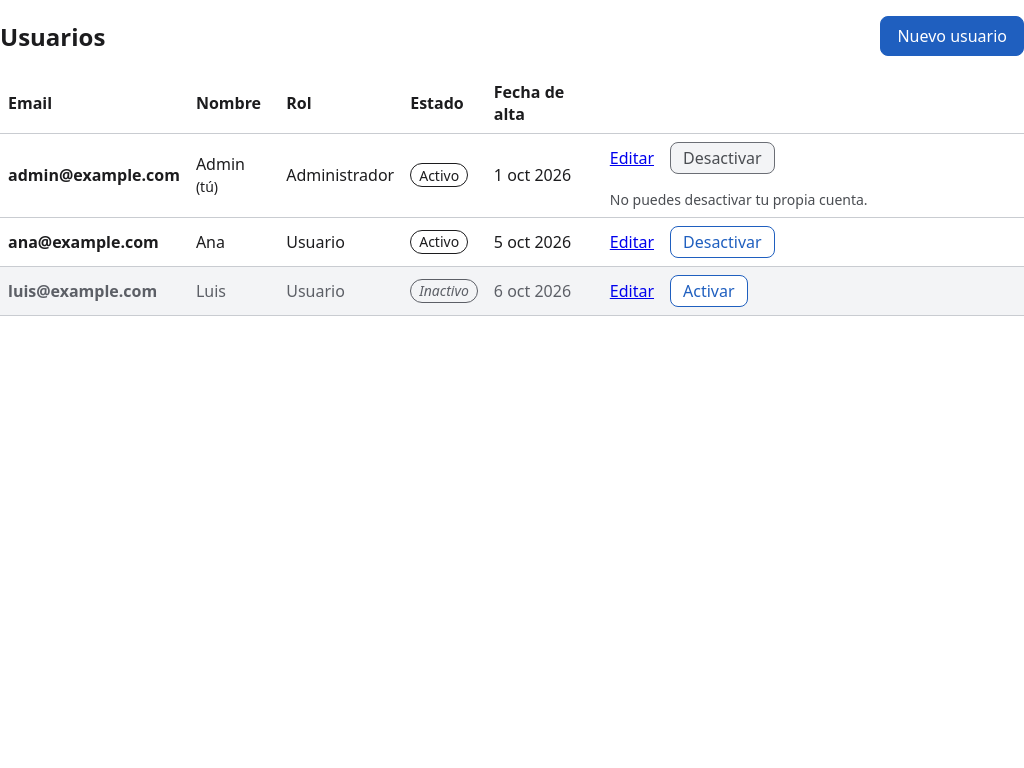
Test: UsuarioListComponent › activar y desactivar › confirmar activar envía activo=true y avisa de que ya puede iniciar sesión
Click the button "Activar" at coordinates (709, 291), box top-left (670, 275), bottom-right (748, 307)
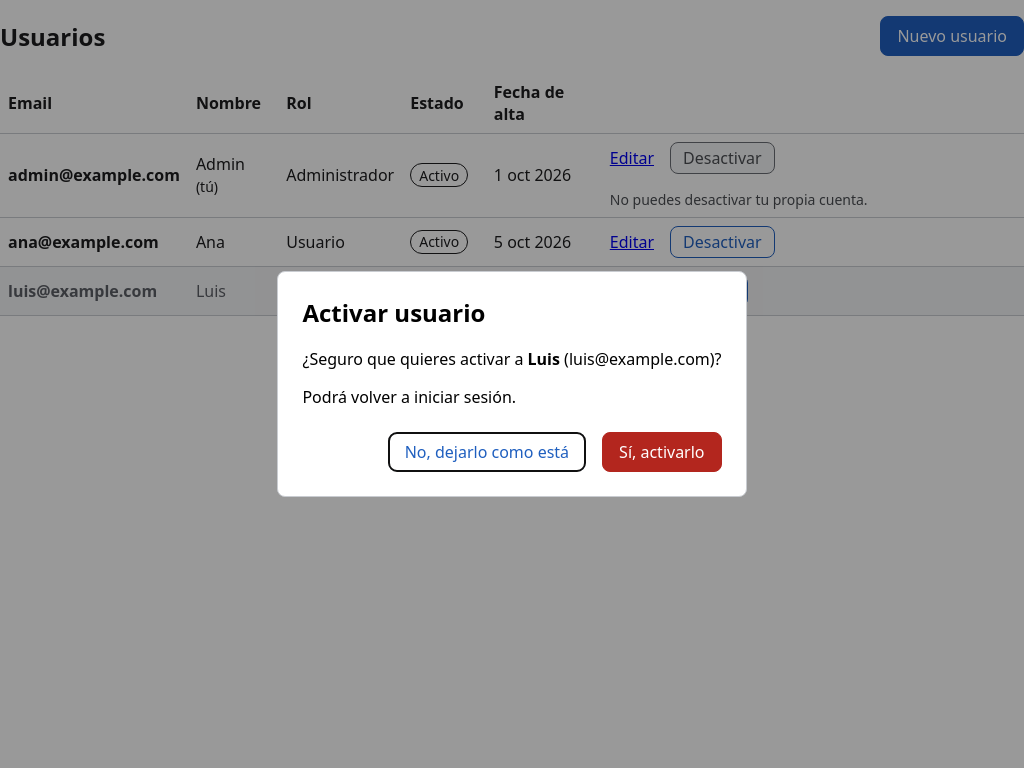
Check: the dialog shows "Activar", box top-left (302, 296), bottom-right (485, 328)
Click the button "Sí, activarlo" at coordinates (662, 452), box top-left (602, 432), bottom-right (722, 472)
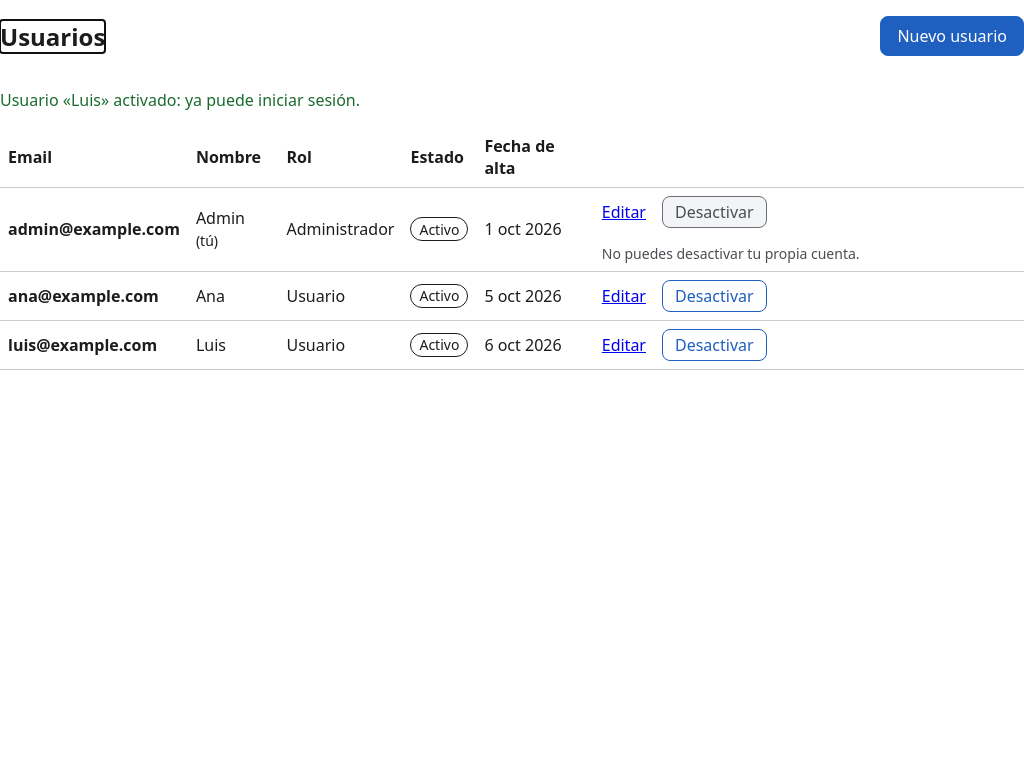
Check: the text with class "exito" shows "activado", box top-left (0, 89), bottom-right (360, 111)
Check: the text "Inactivo" is gone
